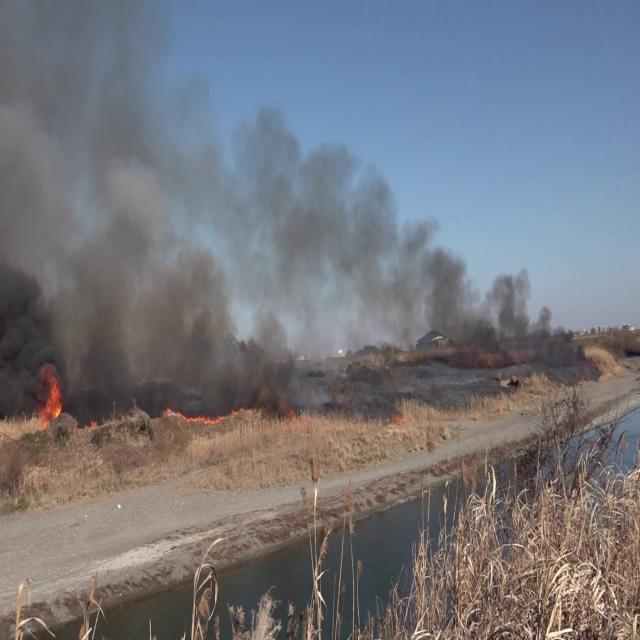Fire: (35, 356, 67, 429)
Smoke: (4, 91, 573, 402)
